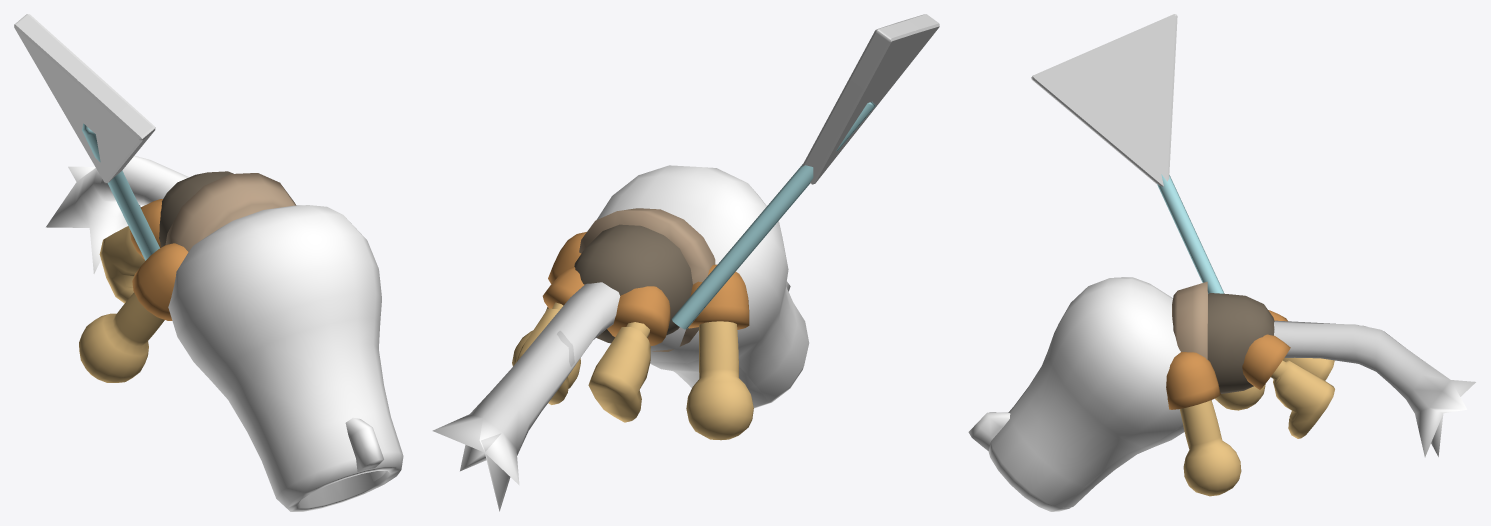
Rendered from SM_tombe_Noyer.fbx.
The picture shows the model from 3 angles, left to right: view 1: azimuth 30°, elevation 25°; view 2: azimuth 150°, elevation 25°; view 3: azimuth 270°, elevation 25°; orthographic projection. The views are drawn at different scales.
Parts seen in each view (by area): view 1: Perso_Head2, polySurface14, Perso_arm_right1, Perso_Body1, Perso_queue1, Perso_feet1; view 2: Perso_Head2, Perso_queue1, polySurface14, Perso_Body1, Perso_feet1, Perso_arm_right1, Perso_arm_left1, Perso_Head1, Perso_queue; view 3: Perso_Head2, polySurface14, Perso_queue1, Perso_Body1, Perso_arm_left1, Perso_feet1, Perso_Head1, Perso_arm_right1.
Boxes of the visible parts, x1,y1,x2,y2 form: Perso_Head2: (168, 205, 403, 511); polySurface14: (14, 14, 159, 260); Perso_arm_right1: (79, 243, 188, 382); Perso_Body1: (159, 171, 296, 251); Perso_queue1: (46, 155, 188, 273); Perso_feet1: (99, 199, 162, 303); Perso_Head2: (596, 165, 809, 408); Perso_queue1: (432, 282, 620, 511); polySurface14: (672, 14, 939, 329); Perso_Body1: (574, 208, 715, 351); Perso_feet1: (515, 267, 670, 422); Perso_arm_right1: (686, 264, 753, 440); Perso_arm_left1: (512, 232, 586, 388); Perso_Head1: (650, 359, 767, 406); Perso_queue: (481, 330, 574, 506); Perso_Head2: (968, 277, 1211, 511); polySurface14: (1031, 14, 1224, 293); Perso_queue1: (1274, 320, 1475, 457); Perso_Body1: (1172, 281, 1274, 393); Perso_arm_left1: (1166, 352, 1241, 496); Perso_feet1: (1242, 310, 1334, 438); Perso_Head1: (1063, 428, 1184, 507); Perso_arm_right1: (1215, 384, 1265, 410).
Bounding box in the file's own units: 3.27 × 4.27 × 4.88.
